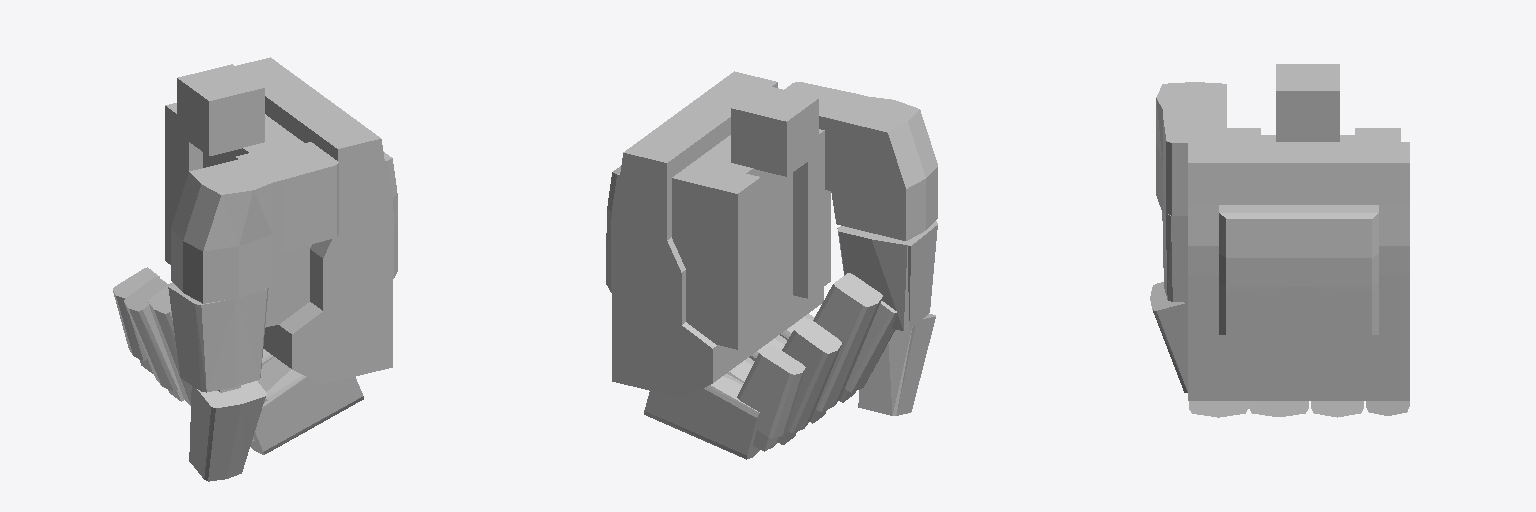
The model's file is lefthand.obj.
3 renders of one model, left to right at view 1: azimuth 30°, elevation 25°; view 2: azimuth 150°, elevation 25°; view 3: azimuth 270°, elevation 25°, orthographic.
Bounding box in the file's own units: 1.93 × 2.68 × 1.88.